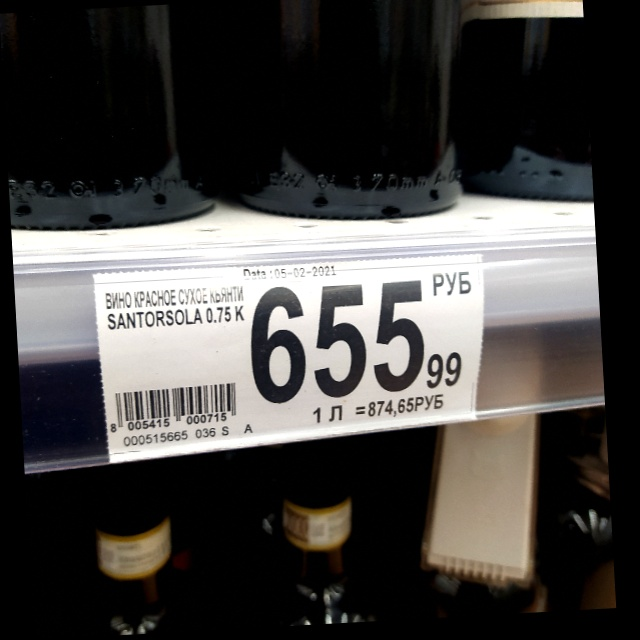barcode: (107, 379, 243, 435)
name: (103, 283, 246, 333)
price: (249, 277, 464, 405)
price_tag: (94, 253, 483, 467)
